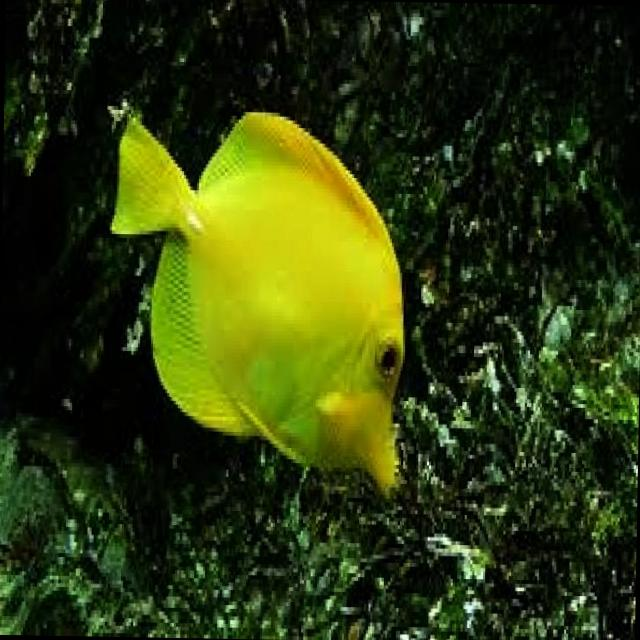TangFish: (105, 97, 412, 509)
